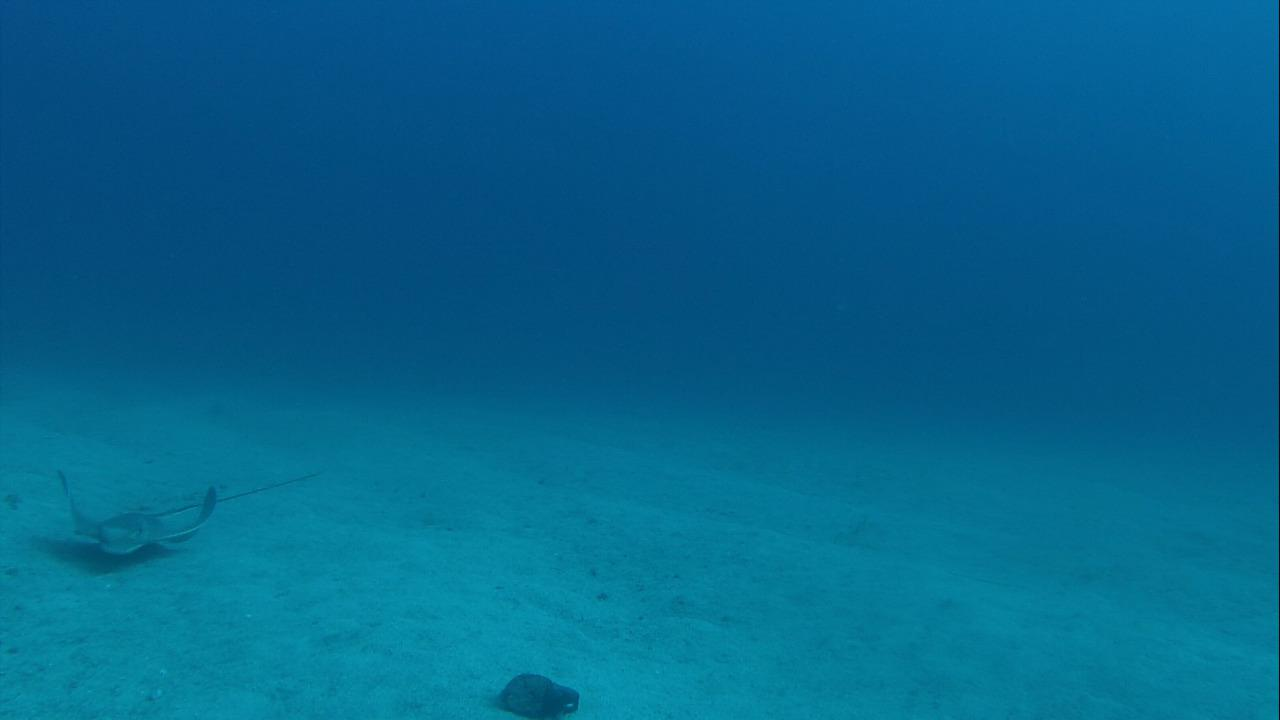myliobatis: (45, 461, 333, 565)
